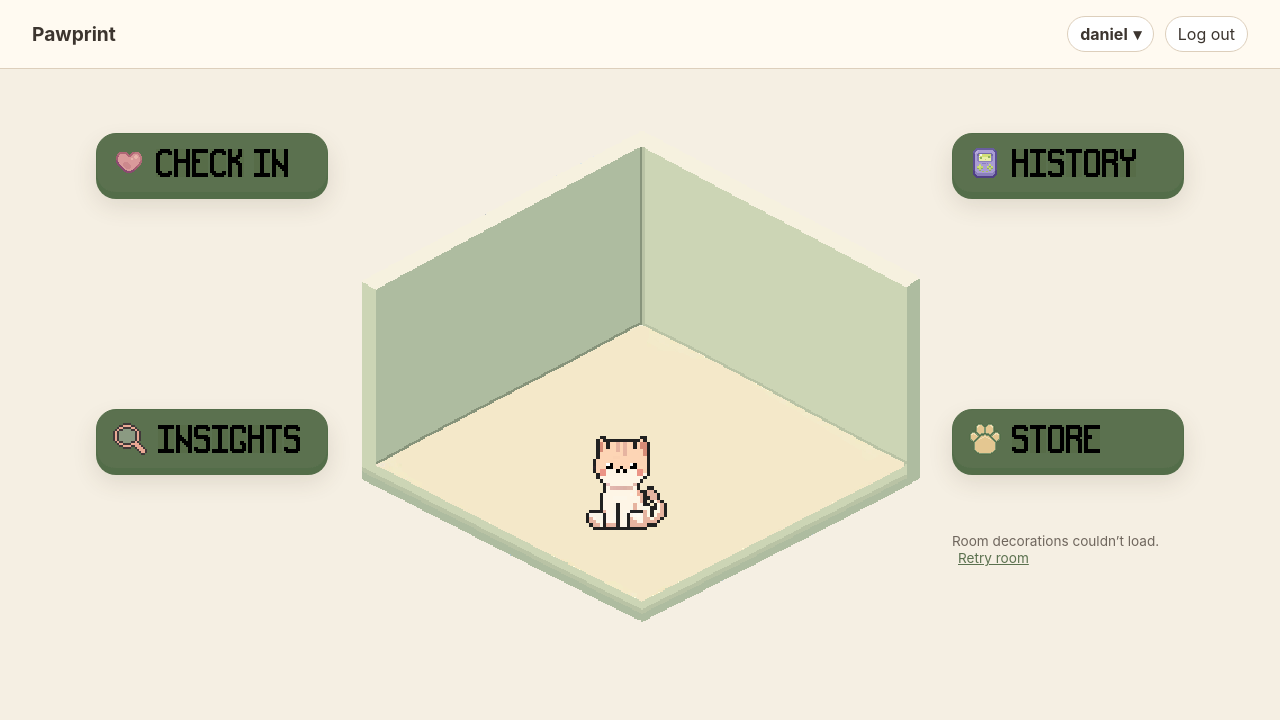
Scenario: App › opens Check-In from the single accessible Home action label
The width and height of the screenshot is (1280, 720).
Click the 1st link named "Check In".
click(212, 163)  # box [96,133,328,193]
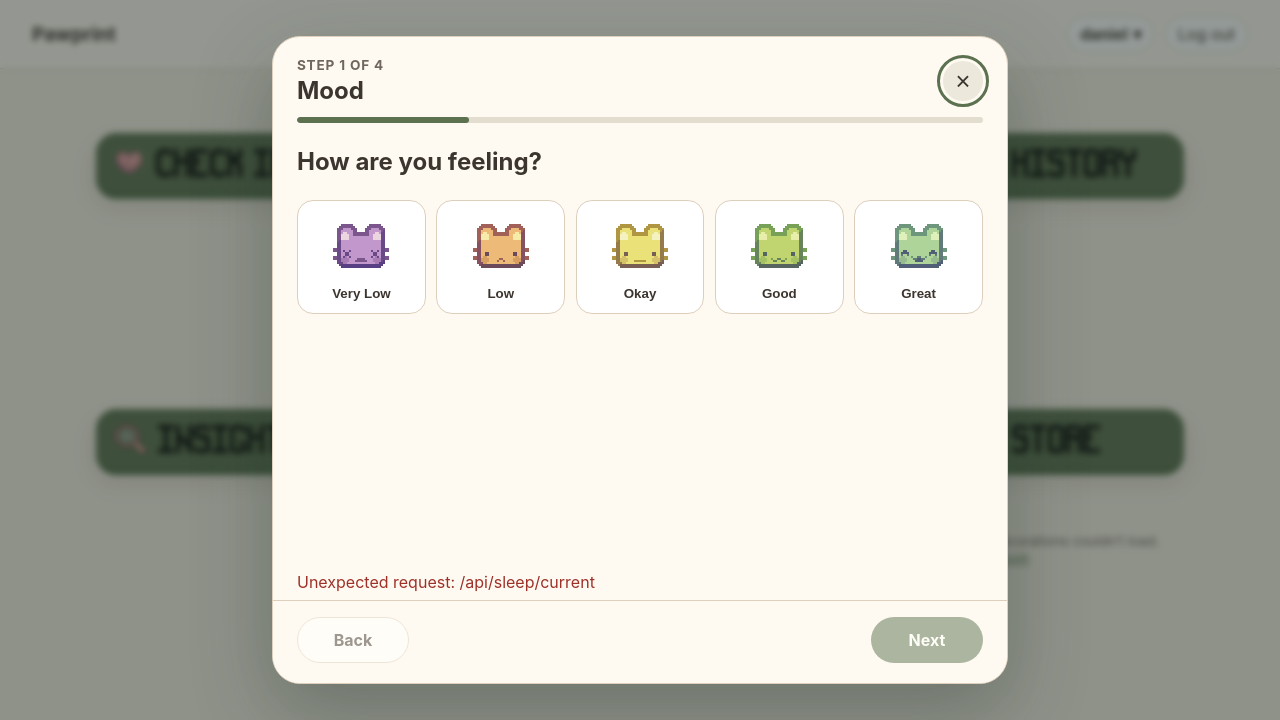
Expected: the heading "Mood" is shown, [297,76,364,105]
